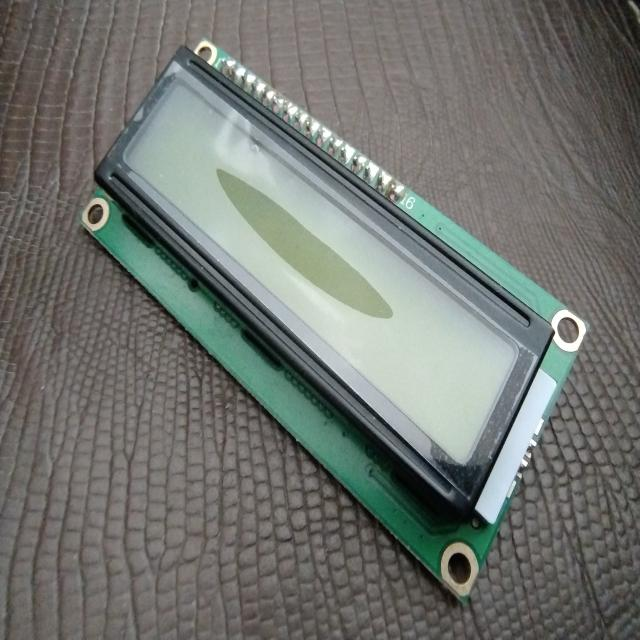lcd: (66, 0, 584, 617)
